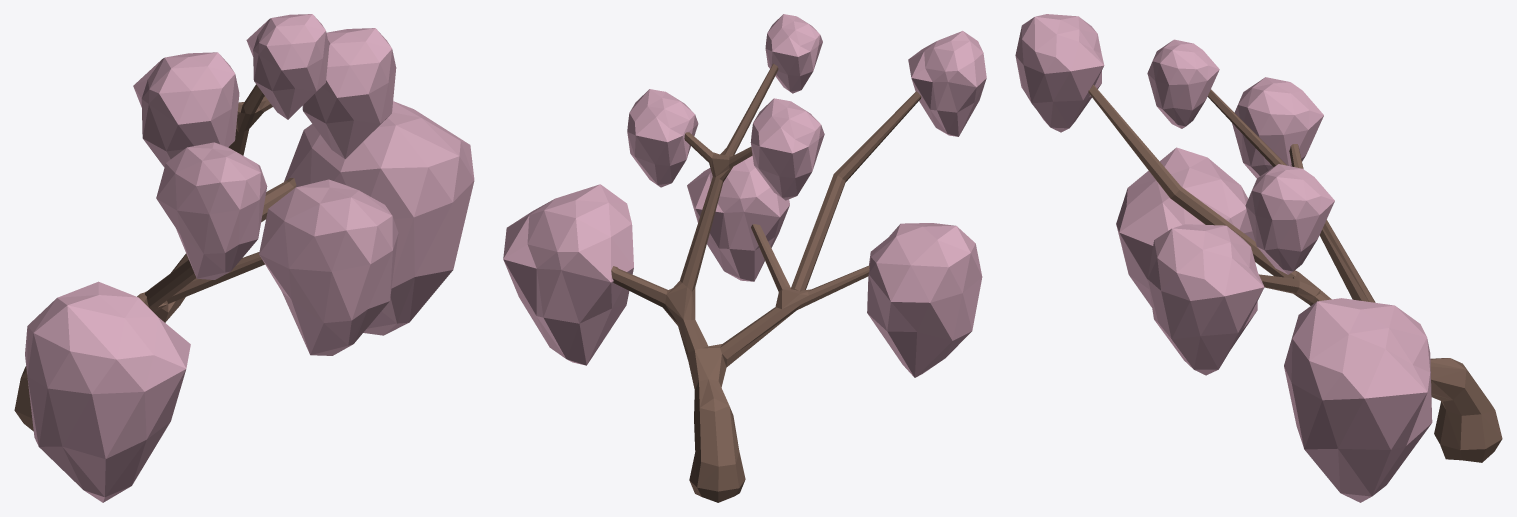
Rendered from AssetsTree.fbx.
3 views of the same model, side by side, from view 1: azimuth 30°, elevation 25°; view 2: azimuth 150°, elevation 25°; view 3: azimuth 270°, elevation 25° (orthographic). The views are drawn at different scales.
Visible parts, largest first — view 1: Tree.001; view 2: Tree.001; view 3: Tree.001.
Part boxes in pixels (box(x1,y1,x2,y2)): Tree.001: box(14, 14, 474, 502); Tree.001: box(503, 14, 986, 502); Tree.001: box(1015, 14, 1502, 502).
Size of the model in its own units: 1221 by 1130 by 1126.
